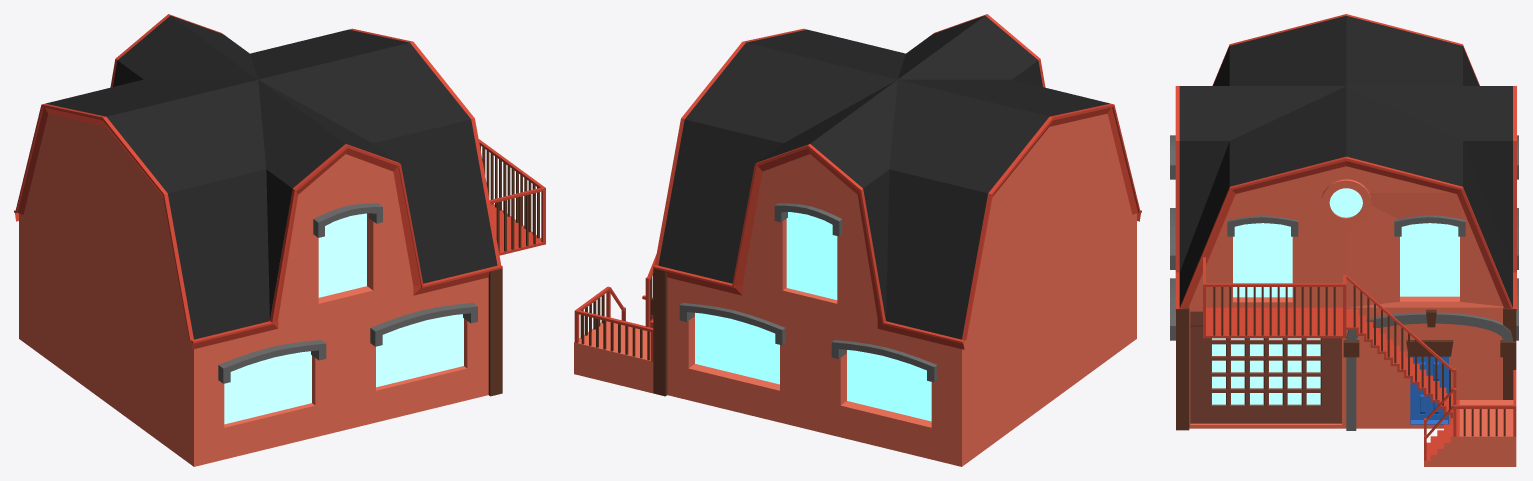
The model's file is building_var7.fbx.
The picture shows the model from 3 angles, left to right: view 1: azimuth 30°, elevation 25°; view 2: azimuth 150°, elevation 25°; view 3: azimuth 270°, elevation 25°; orthographic projection. The views are drawn at different scales.
Visible parts, largest first — view 1: Cube.037, Cube.038, Cube.044, Cube.047, Plane.007, Cube.045, Cube.039, Plane.008; view 2: Cube.037, Cube.038, Cube.045, Cube.044, Cube.046, Cube.039, Plane.010; view 3: Cube.037, Cube.040, Cube.045, Cube.044, Cube.043, Cube.039, Plane.007, Cube.038, Plane.011, Cube.042, Cube.041, Cube.047 (+2 smaller).
Boxes of the visible parts, left/top/right/bottom form: Cube.037: left=19, top=15, right=497, bottom=466; Cube.038: left=14, top=14, right=502, bottom=349; Cube.044: left=15, top=28, right=500, bottom=340; Cube.047: left=218, top=203, right=477, bottom=383; Plane.007: left=479, top=145, right=539, bottom=238; Cube.045: left=478, top=139, right=545, bottom=255; Cube.039: left=488, top=265, right=502, bottom=396; Plane.008: left=496, top=193, right=535, bottom=252; Cube.037: left=658, top=15, right=1136, bottom=466; Cube.038: left=653, top=14, right=1141, bottom=349; Cube.045: left=574, top=254, right=656, bottom=393; Cube.044: left=654, top=28, right=1140, bottom=340; Cube.046: left=679, top=203, right=937, bottom=382; Cube.039: left=653, top=265, right=667, bottom=396; Plane.010: left=581, top=315, right=649, bottom=360; Cube.037: left=1179, top=15, right=1512, bottom=428; Cube.040: left=1190, top=311, right=1341, bottom=423; Cube.045: left=1203, top=257, right=1516, bottom=466; Cube.044: left=1179, top=14, right=1512, bottom=309; Cube.043: left=1227, top=215, right=1512, bottom=430; Cube.039: left=1176, top=307, right=1516, bottom=430; Plane.007: left=1213, top=287, right=1335, bottom=335; Cube.038: left=1175, top=86, right=1516, bottom=310; Plane.011: left=1353, top=285, right=1450, bottom=409; Cube.042: left=1410, top=356, right=1448, bottom=424; Cube.041: left=1343, top=309, right=1515, bottom=357; Cube.047: left=1170, top=135, right=1175, bottom=340.
Size of the model in its own units: 1282 by 900 by 1045.
